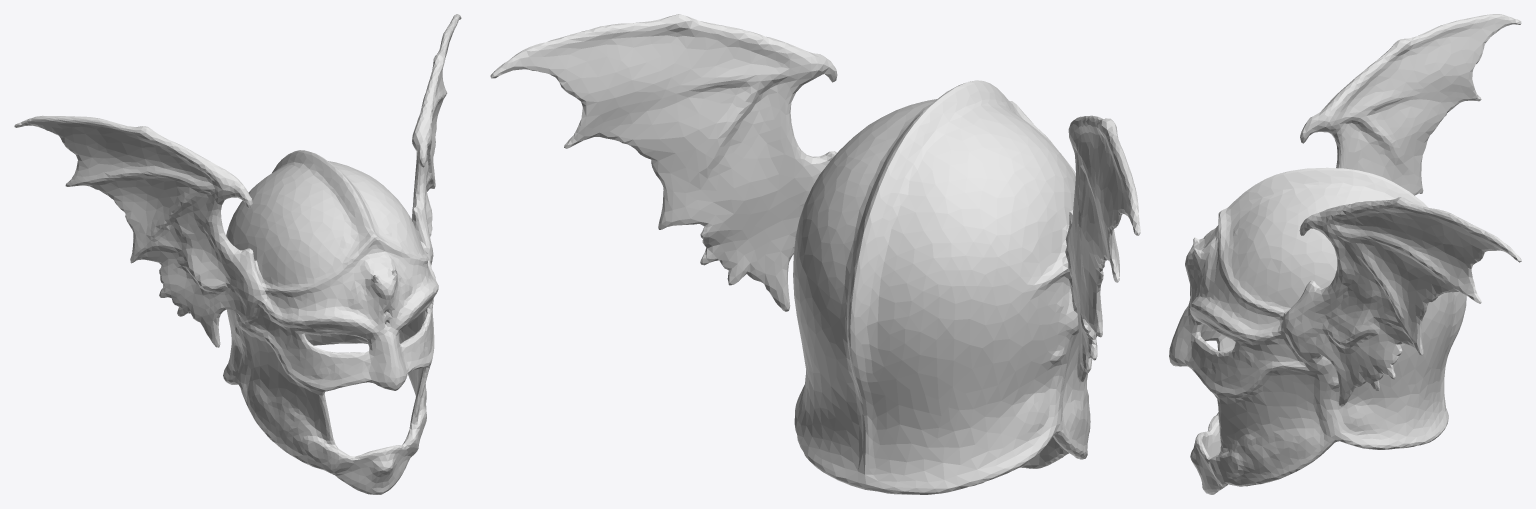
Rendered from orn_helmet01.glb.
3 views of the same model, side by side, from view 1: azimuth 30°, elevation 25°; view 2: azimuth 150°, elevation 25°; view 3: azimuth 270°, elevation 25° (orthographic). The views are drawn at different scales.
Visible parts, largest first — view 1: Low; view 2: Low; view 3: Low.
Boxes of the visible parts, bbox=[...] form: Low: bbox=[14, 14, 461, 494]; Low: bbox=[490, 14, 1140, 494]; Low: bbox=[1169, 14, 1521, 494].
Bounding box in the file's own units: 1.99 × 1.45 × 1.24.
Materials: 1 (1 with a texture image).
